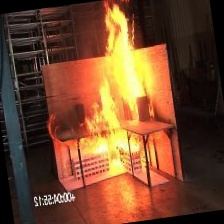fire: (50, 0, 170, 187)
